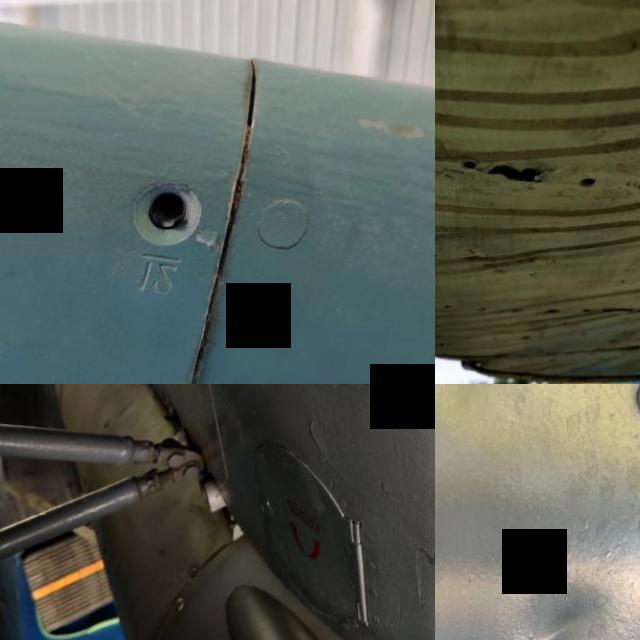Crack: (452, 142, 568, 210)
Dent: (474, 557, 640, 640)
Missing_Fastener: (103, 156, 230, 282)
